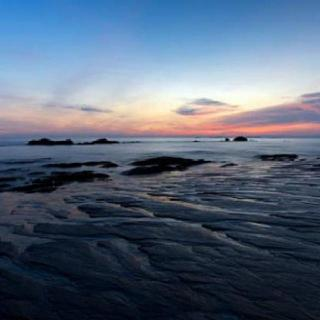Cirrostratus: (0, 89, 320, 132)
